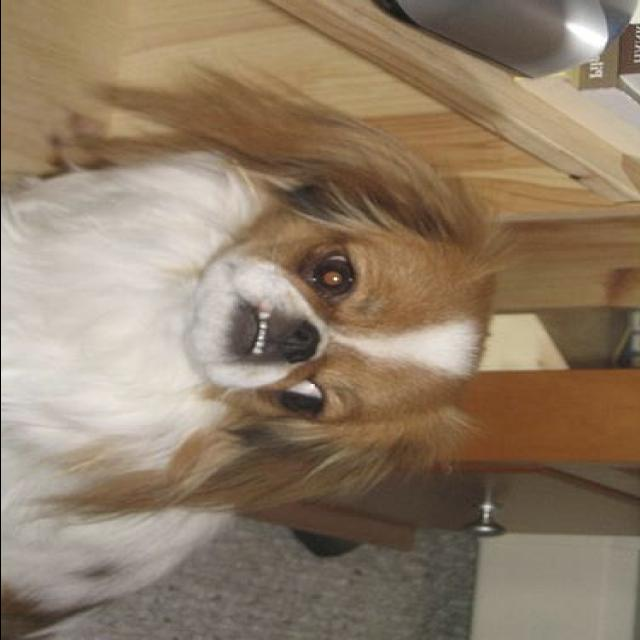husky: (3, 50, 544, 636)
